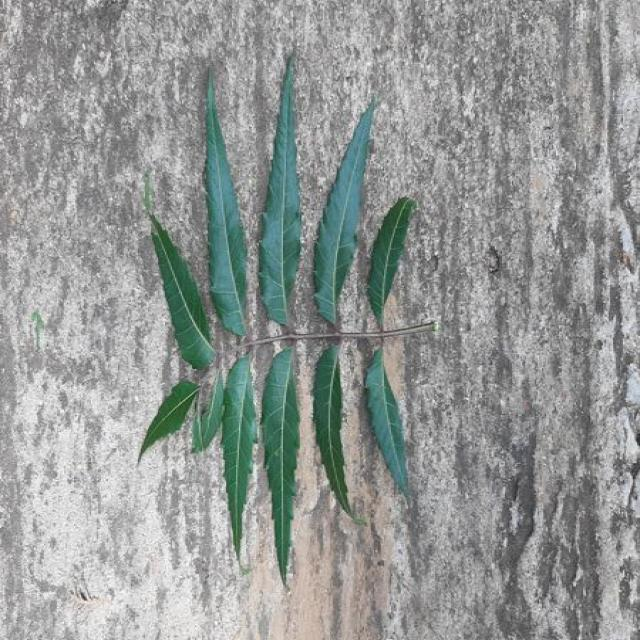neem: (140, 74, 415, 579), (258, 56, 302, 328), (365, 340, 407, 496)
